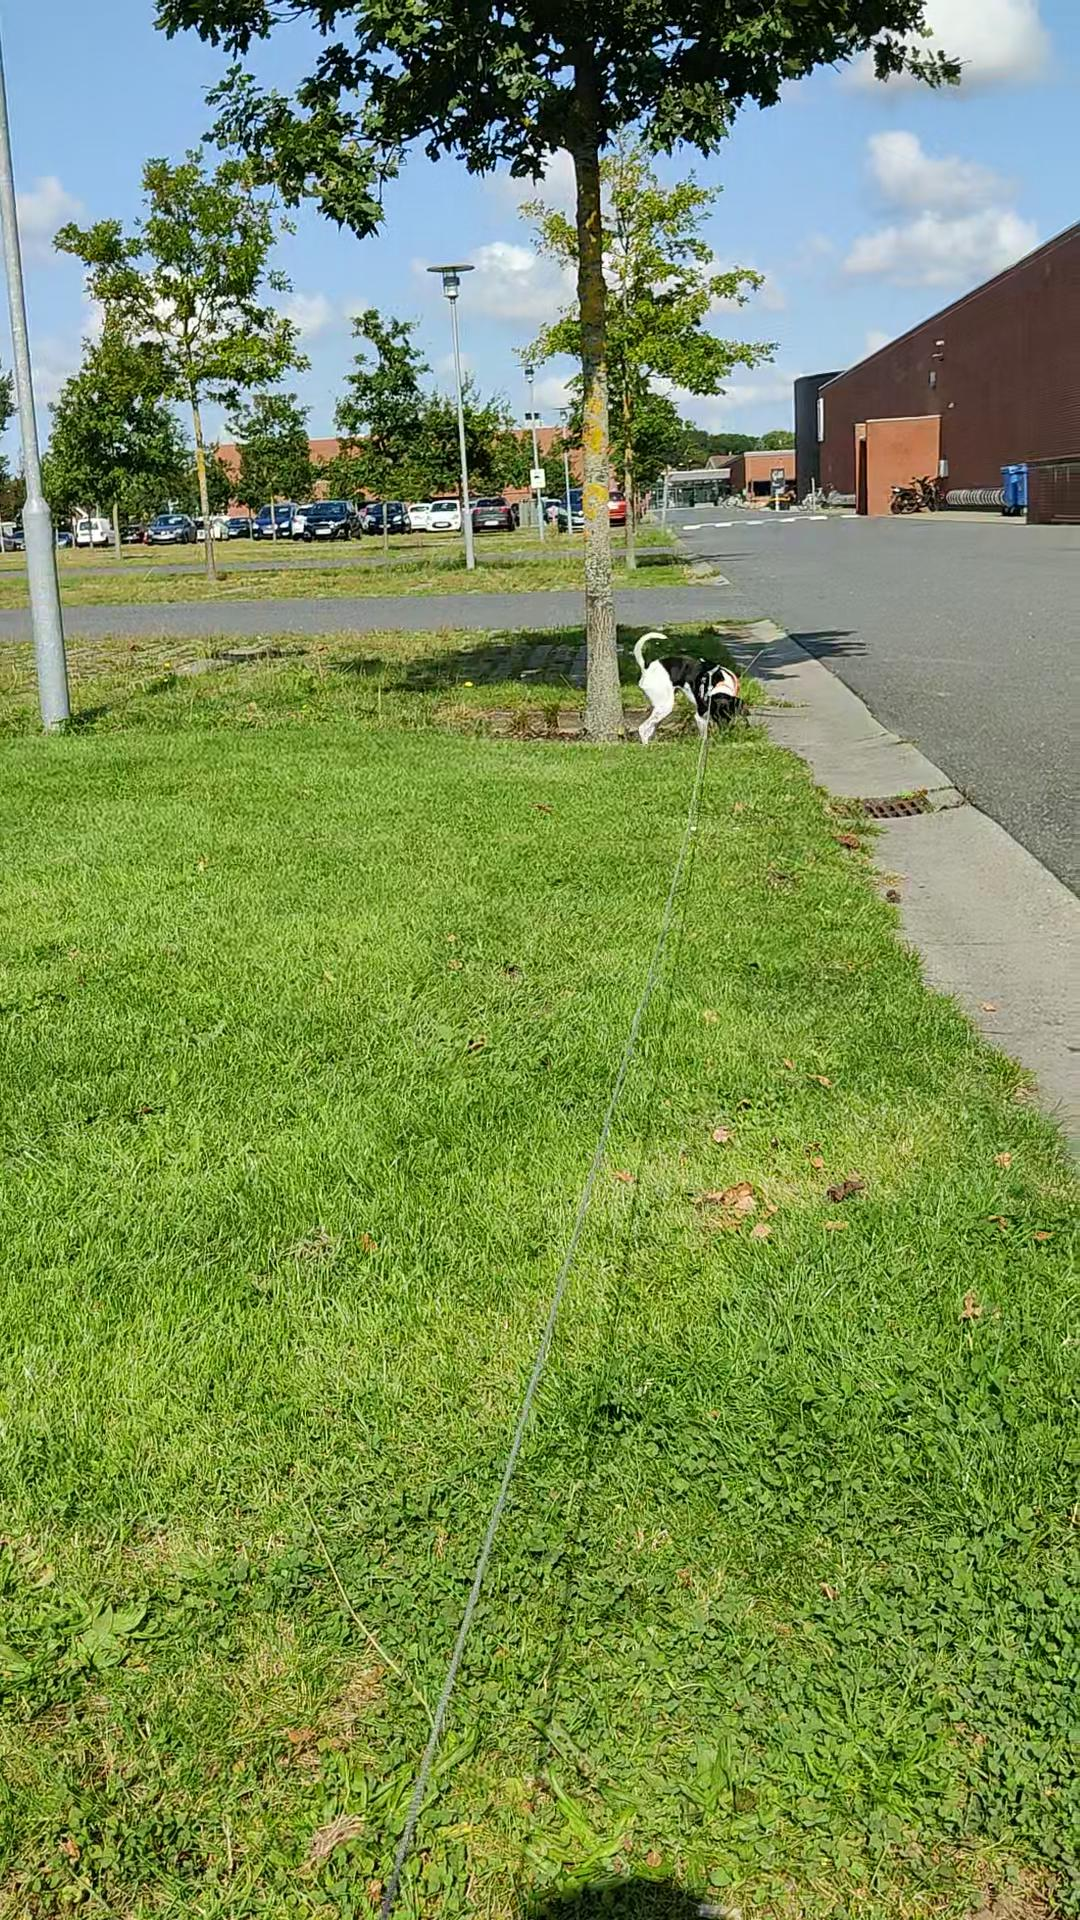Dog: (626, 625, 752, 749)
